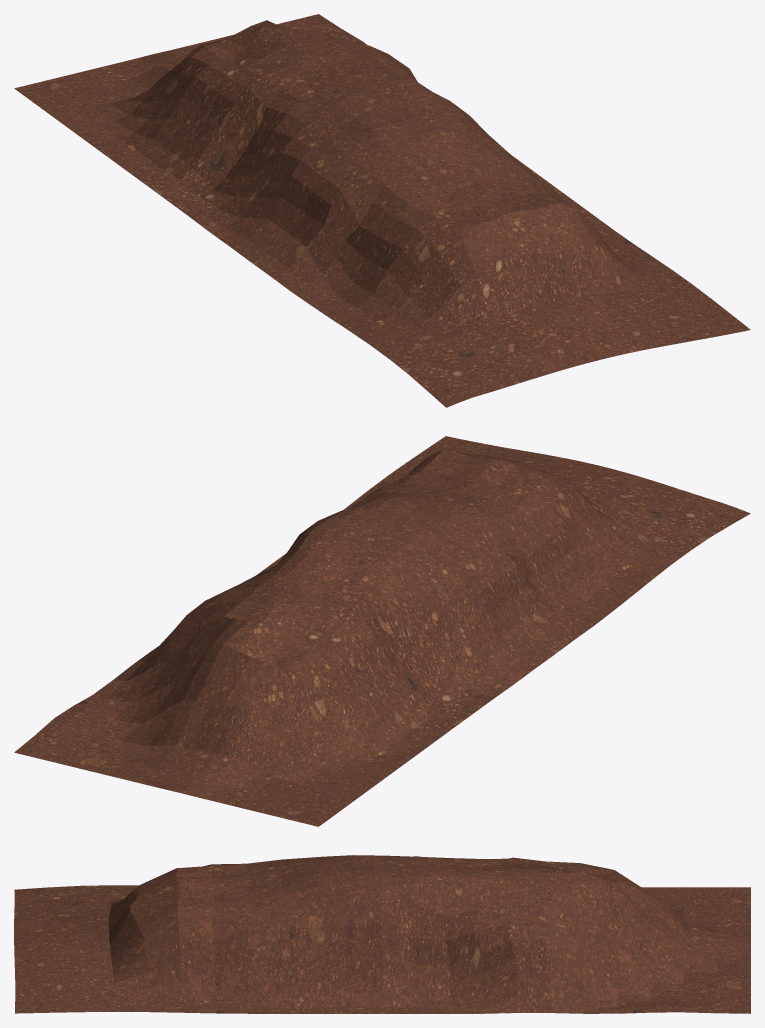
The model's file is TanahKub4.fbx.
The picture shows the model from 3 angles, top to bottom: view 1: azimuth 30°, elevation 25°; view 2: azimuth 150°, elevation 25°; view 3: azimuth 270°, elevation 25°; orthographic projection. The views are drawn at different scales.
Parts seen in each view (by area): view 1: Plane.013; view 2: Plane.013; view 3: Plane.013.
Boxes of the visible parts, x1,y1,x2,y2 form: Plane.013: (14,14,750,407); Plane.013: (14,436,750,826); Plane.013: (14,855,750,1013).
Size of the model in its own units: 514 by 172 by 1256.
